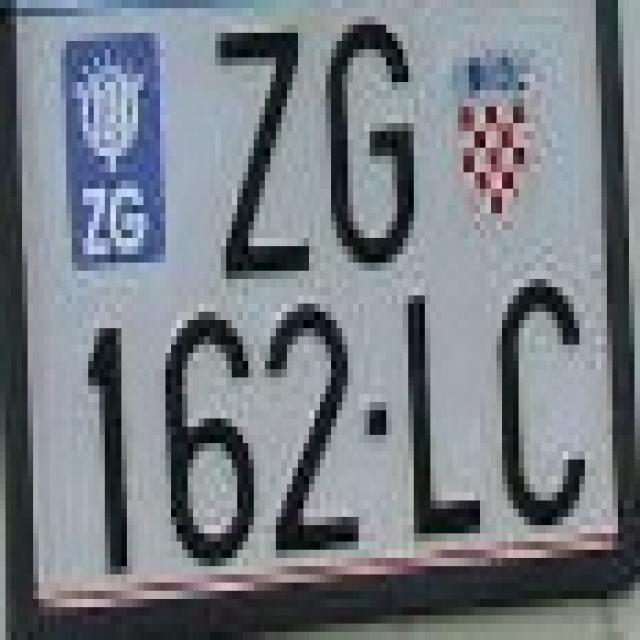1: (61, 312, 160, 582)
2: (264, 304, 370, 558)
6: (149, 312, 259, 582)
C: (491, 279, 596, 542)
G: (320, 8, 425, 271)
L: (392, 304, 486, 550)
Z: (199, 0, 320, 279)
